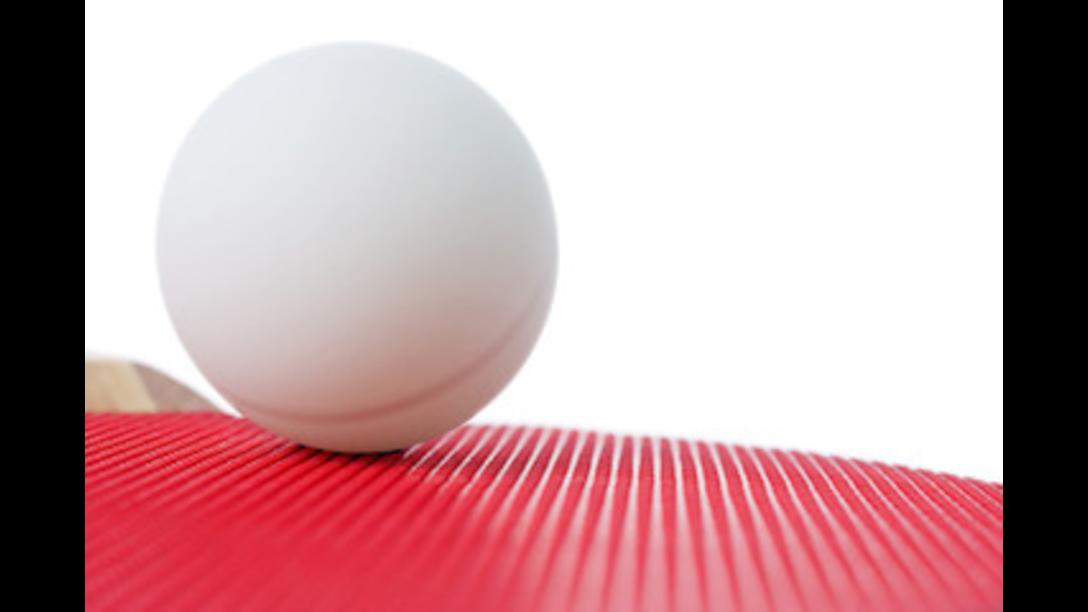Table-Tennis-Ball: (158, 41, 562, 448)
